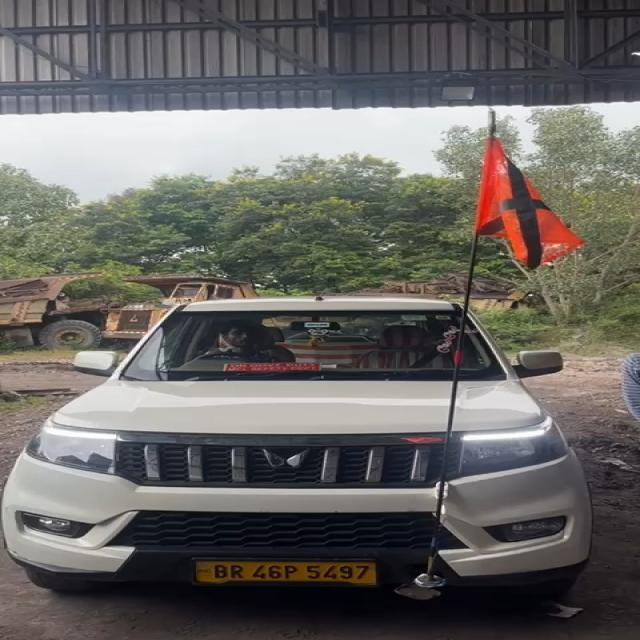light_vehicle: (14, 302, 602, 584)
